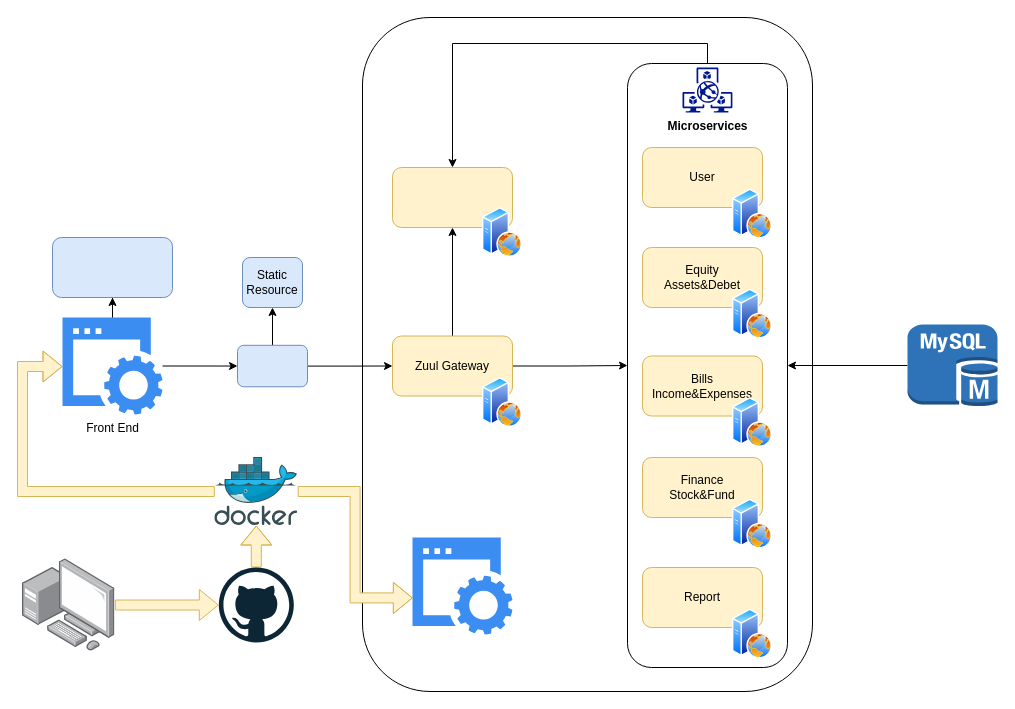
This 1015x709 diagram has some shape labels left out. Each missing label, with the centre of its shape:
"Ant Design Pro React.js Node.js NPM" belongs at pixel 112 267.
"Back End" belongs at pixel 462 585.
"Eureka Registration" belongs at pixel 452 197.
"Nginx" belongs at pixel 272 365.
